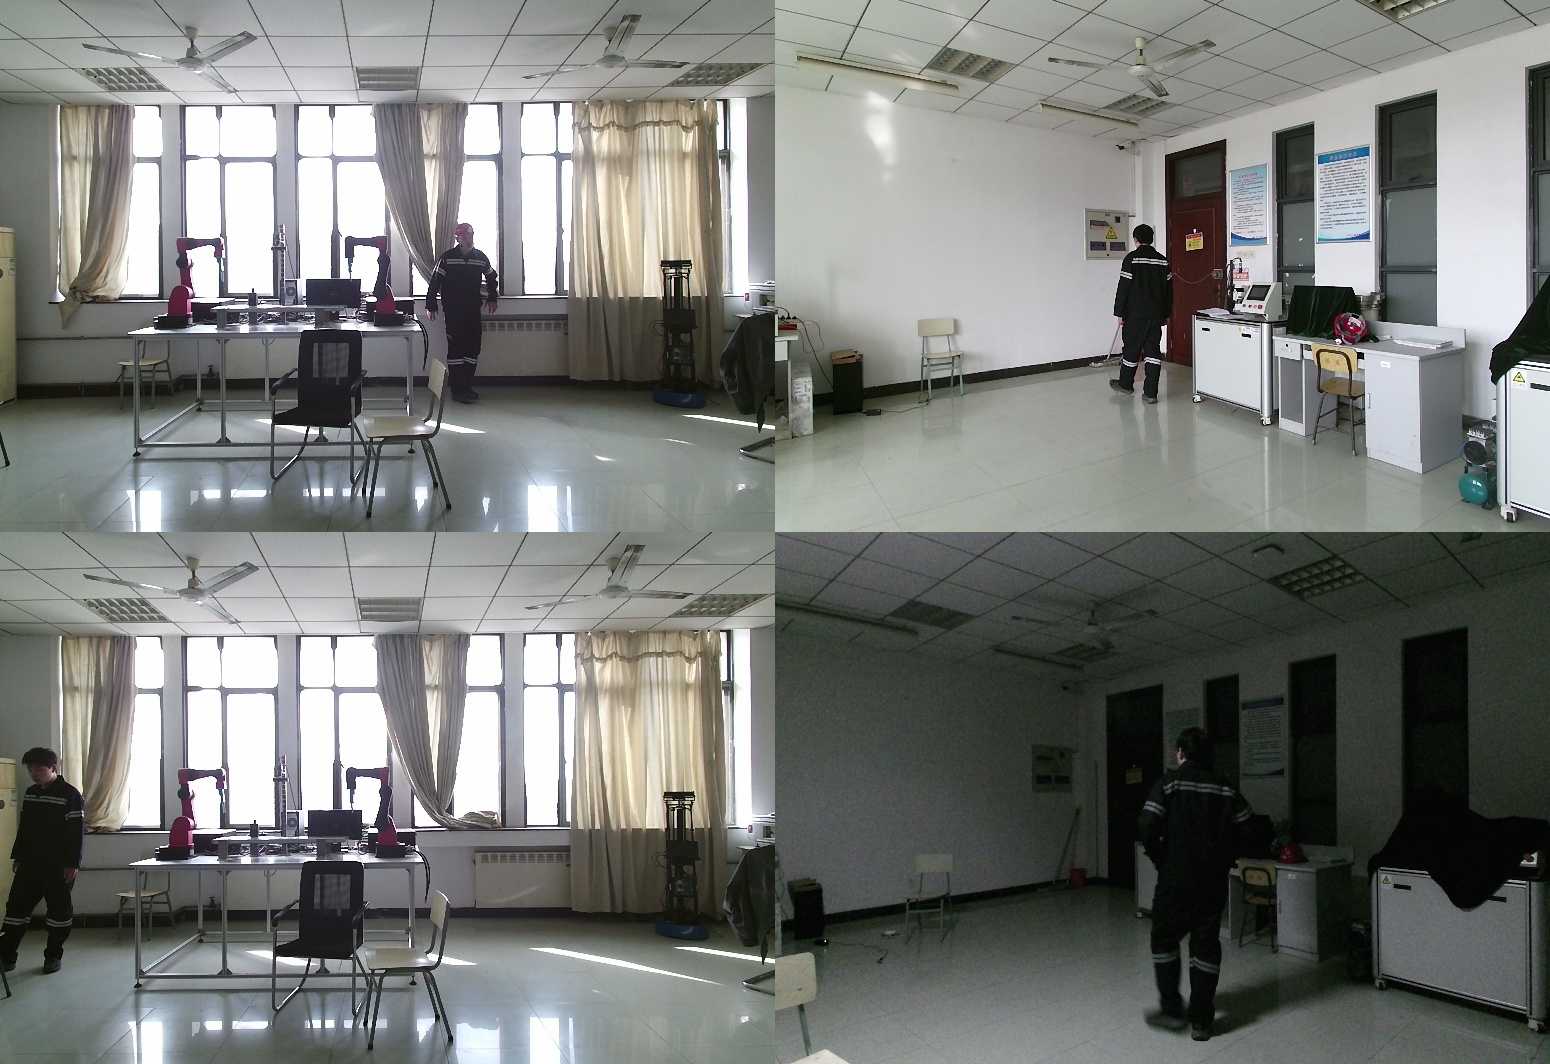person: (1141, 725, 1278, 1064), (1, 747, 91, 973), (427, 225, 502, 413), (1111, 226, 1179, 410)
